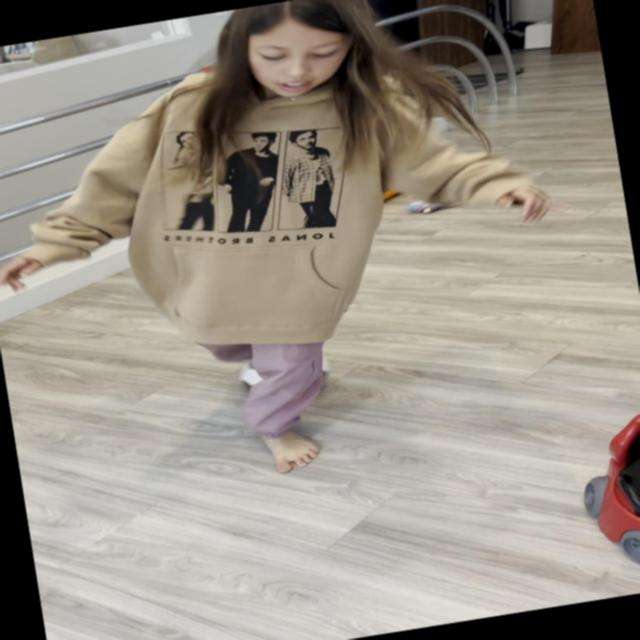Soccer Ball: (230, 339, 342, 408)
